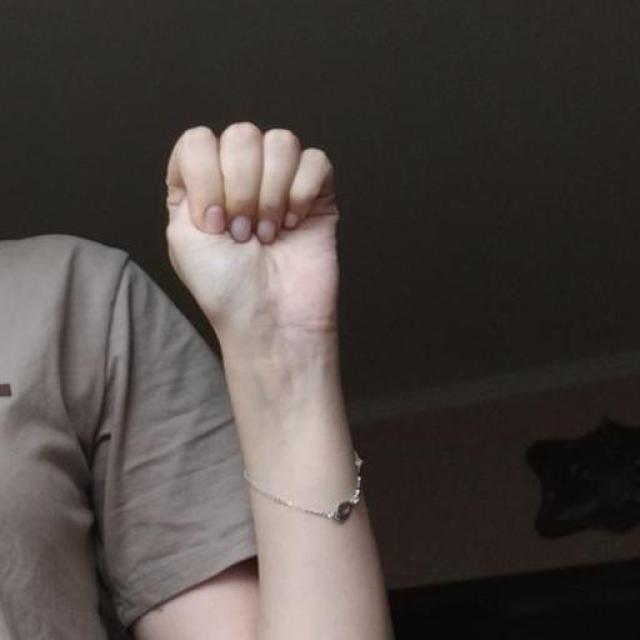hand: (162, 120, 342, 339)
